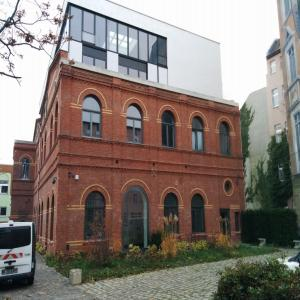Vehicle-registration-plate: (2, 268, 18, 276)
